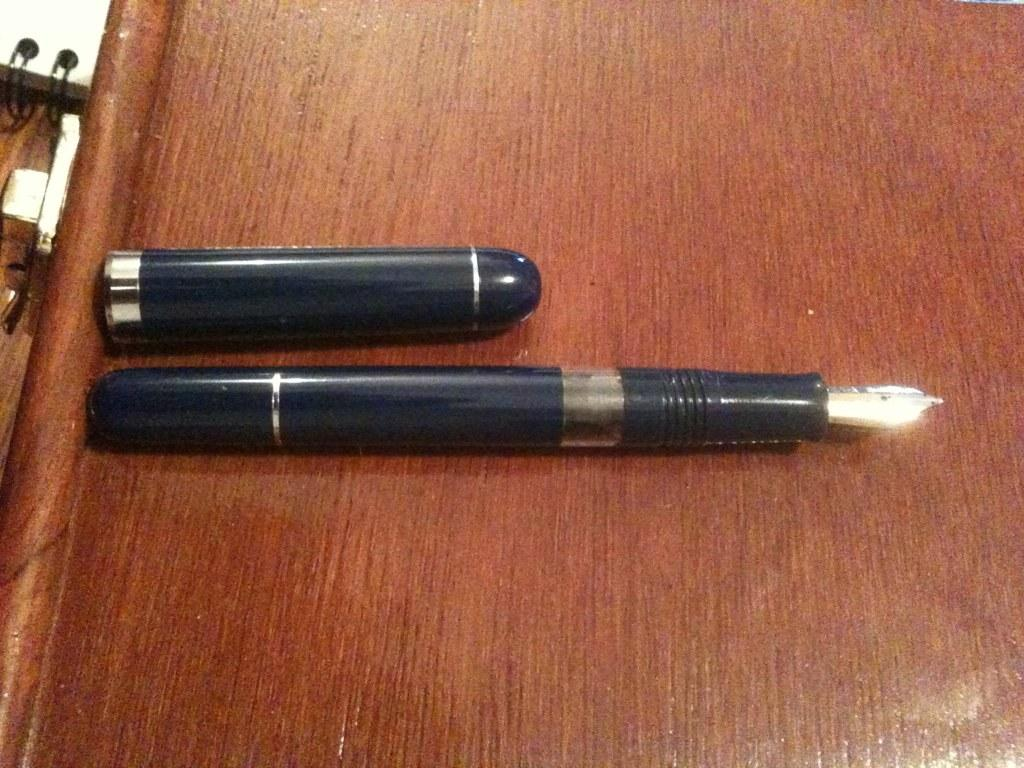pen: (89, 246, 949, 464)
